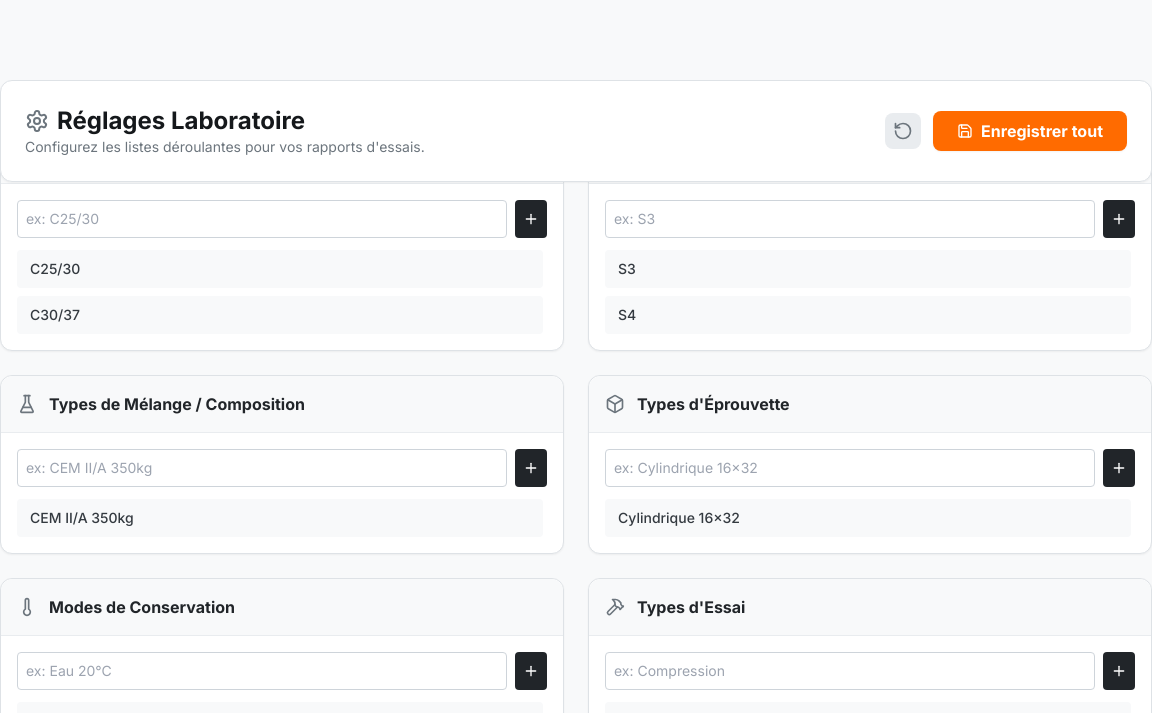
SettingsManager Component › handles save failure
The width and height of the screenshot is (1152, 713).
Expected: the heading "Classes de Résistance" is shown, [49,143,224,167]
Click the button "Enregistrer tout". click: (1030, 131)
box: [933,111,1127,151]
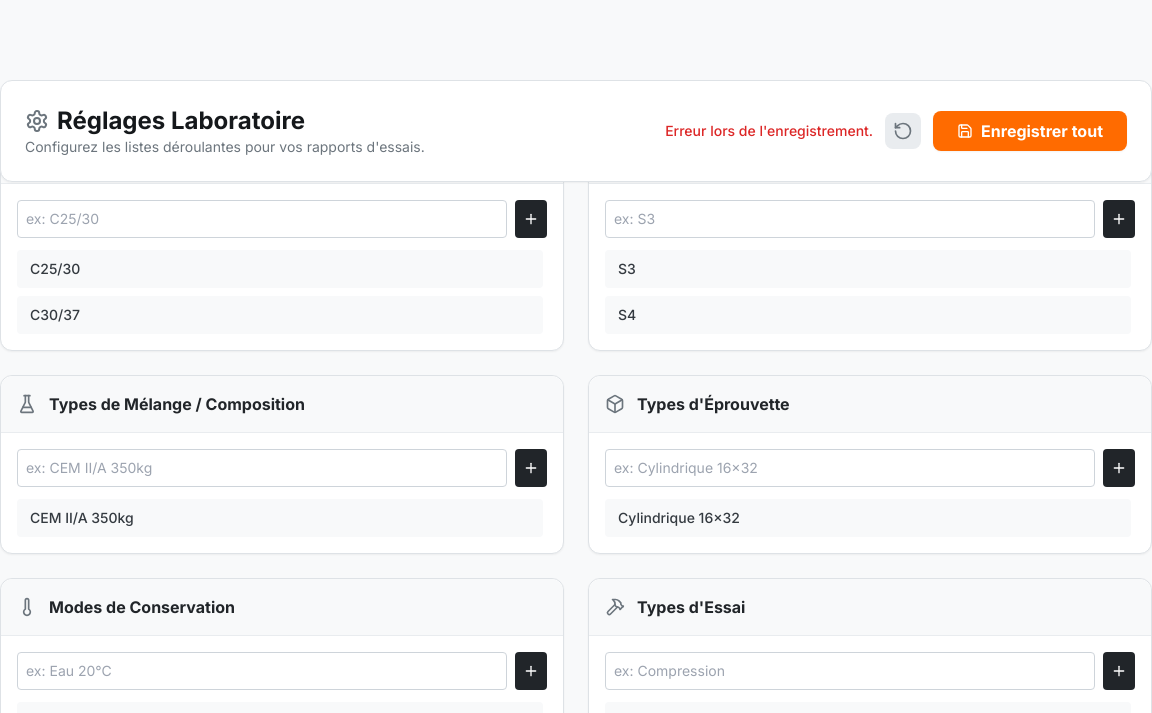
Expected: the text "Erreur lors de l'enregistrement." is shown, [665,121,873,141]
